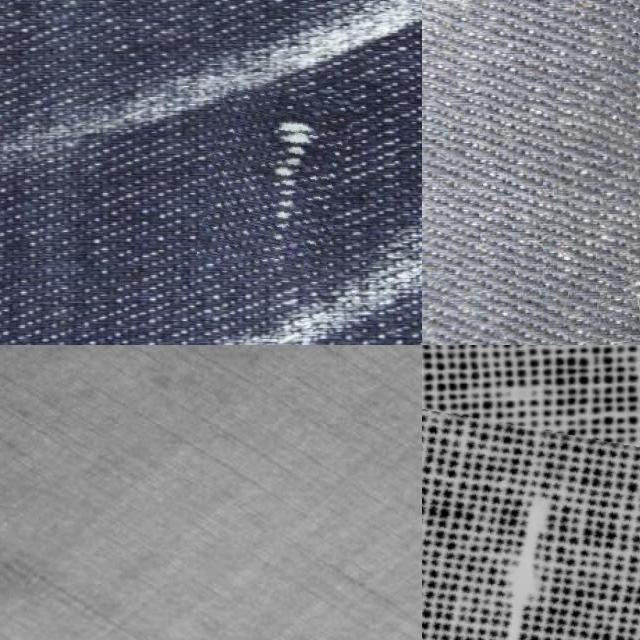Thread_other: (422, 416, 640, 640), (202, 84, 346, 276)
